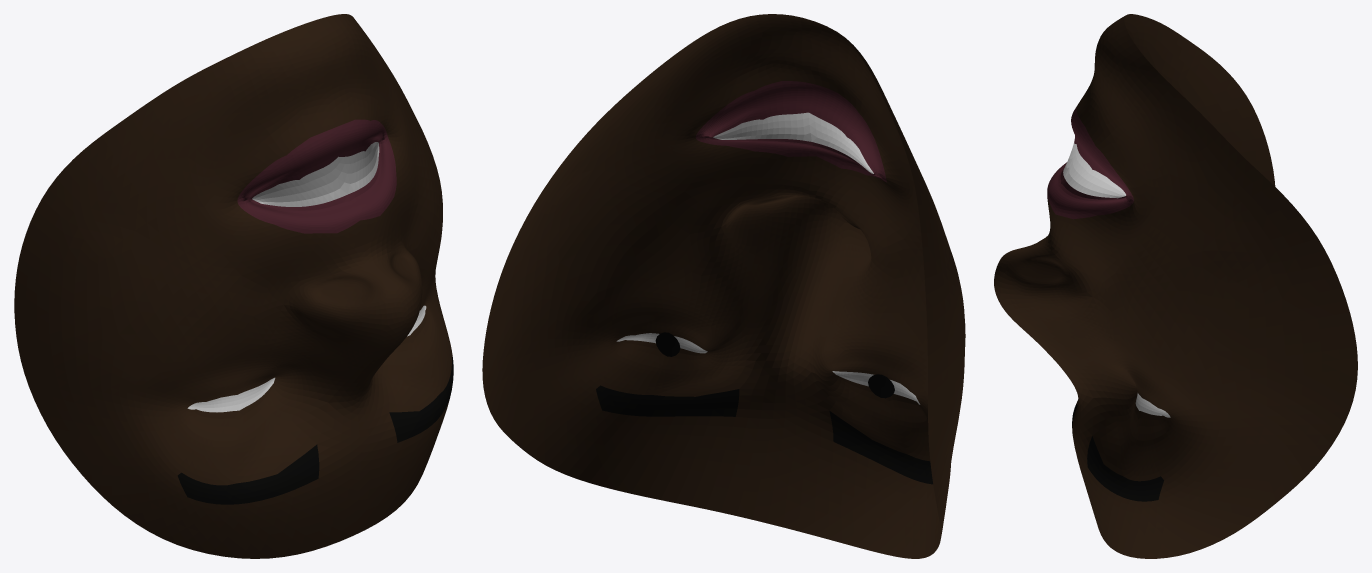
File: VID-20250515-WA0003_f_01322.obj
3 renders of one model, left to right at view 1: azimuth 30°, elevation 25°; view 2: azimuth 150°, elevation 25°; view 3: azimuth 270°, elevation 25°, orthographic. The views are drawn at different scales.
Parts seen in each view (by area): view 1: face_mesh_subdivided; view 2: face_mesh_subdivided; view 3: face_mesh_subdivided.
Part boxes in pixels (left/top/right/bottom): face_mesh_subdivided: left=14, top=14, right=453, bottom=558; face_mesh_subdivided: left=482, top=14, right=965, bottom=558; face_mesh_subdivided: left=994, top=14, right=1357, bottom=558.
Bounding box in the file's own units: 0.4451 × 0.5461 × 0.3667.
